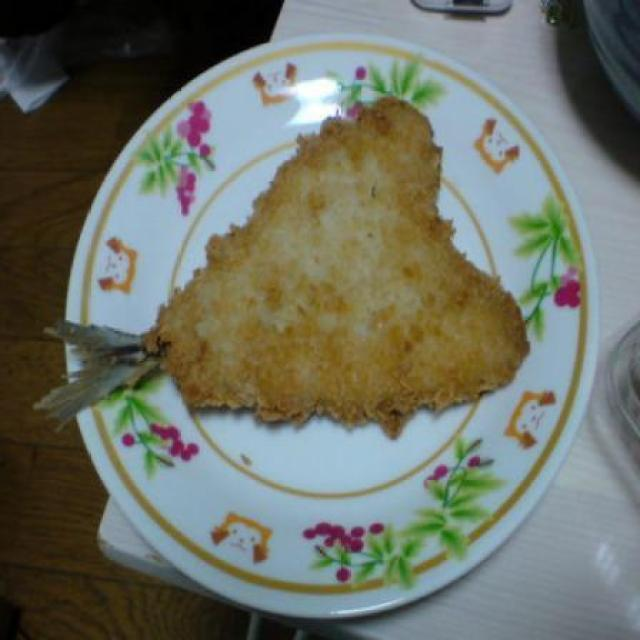Fish: (22, 81, 551, 456)
